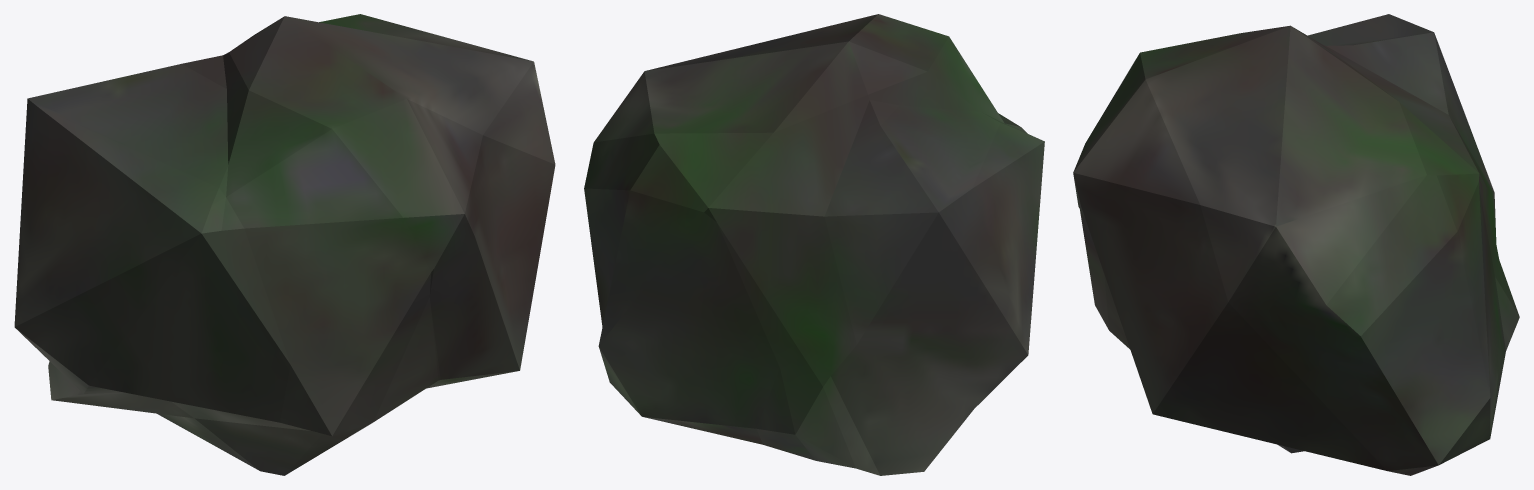
The model's file is rock004.fbx.
3 renders of one model, left to right at view 1: azimuth 30°, elevation 25°; view 2: azimuth 150°, elevation 25°; view 3: azimuth 270°, elevation 25°, orthographic. The views are drawn at different scales.
Visible parts, largest first — view 1: Icosphere; view 2: Icosphere; view 3: Icosphere.
Part boxes in pixels (x1,y1,x2,y2): Icosphere: (14, 14, 555, 475); Icosphere: (584, 14, 1044, 475); Icosphere: (1073, 14, 1519, 475).
Bounding box in the file's own units: 250 × 215 × 204.
